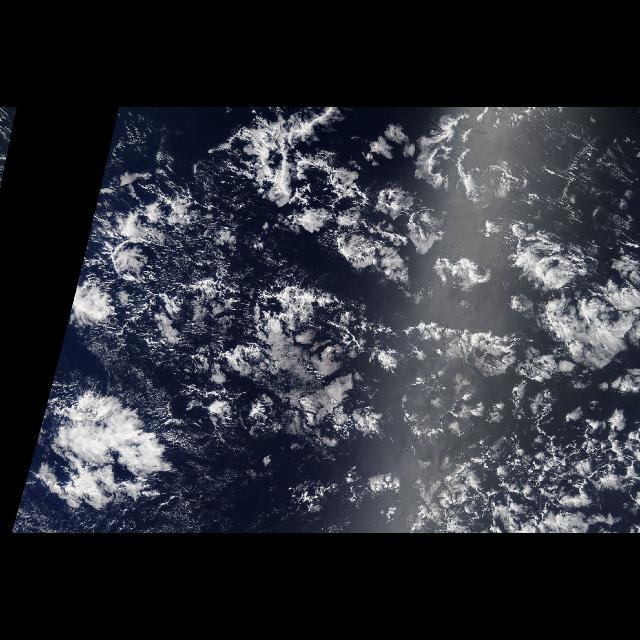Fish: (33, 386, 177, 514)
Gravel: (468, 444, 594, 520)
